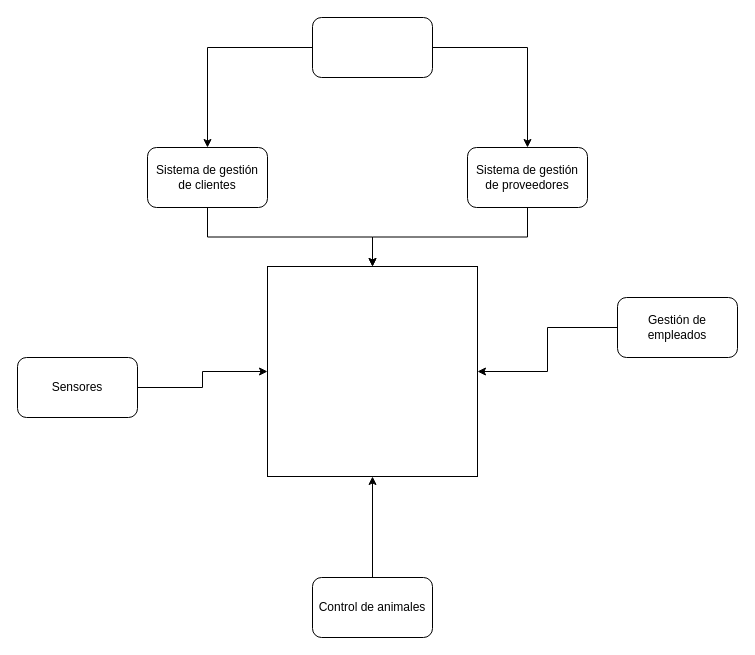
The diagram is 755 pixels wide and 655 high, and some of its shapes have lost their labels. The shapes that lost their labels are listed below. From the top down, each one's centre as x and y in pixels, then its label:
At pixel 372 47: "Pasarela de pago".
At pixel 372 371: "Gestion de la granja".
